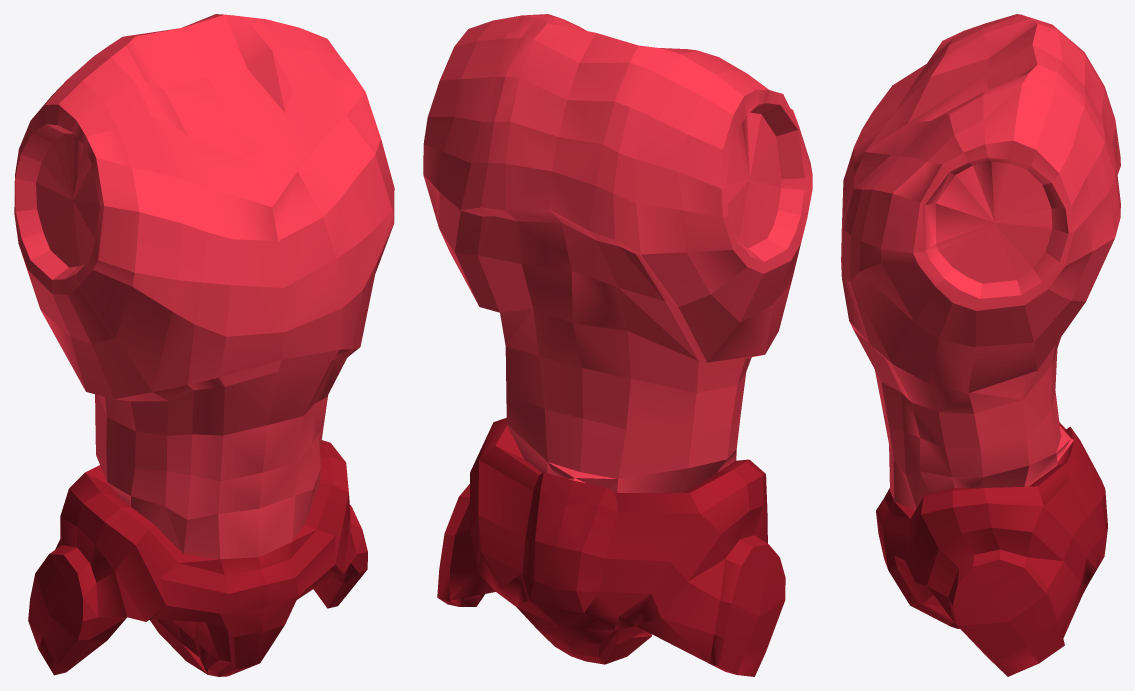
File: body.fbx
3 renders of one model, left to right at view 1: azimuth 30°, elevation 25°; view 2: azimuth 150°, elevation 25°; view 3: azimuth 270°, elevation 25°, orthographic. The views are drawn at different scales.
Visible parts, largest first — view 1: body; view 2: body; view 3: body.
Boxes of the visible parts, box(x1,y1,x2,y2) form: body: box(14, 14, 394, 676); body: box(423, 14, 812, 676); body: box(841, 14, 1120, 676).
Bounding box in the file's own units: 0.4041 × 0.744 × 0.3242.
